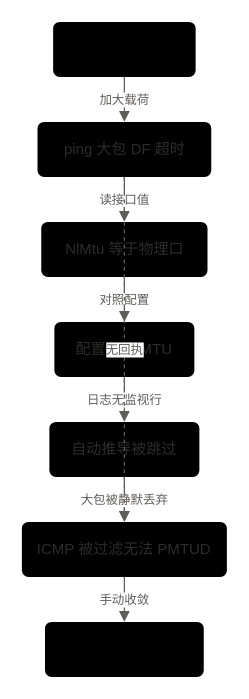
Some shapes in this 249 by 699 pixel diagram are drawn without their labels. Each missing label, with the box of its shape:
ping 小包成功: (52, 21, 196, 77)
删除 MTU 或下调: (44, 621, 204, 677)
